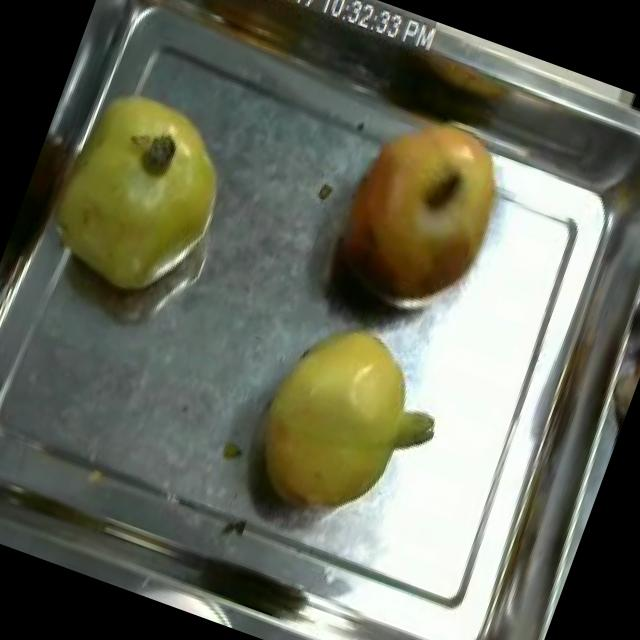fruit: (298, 80, 540, 347), (225, 293, 467, 556), (22, 66, 260, 324)
